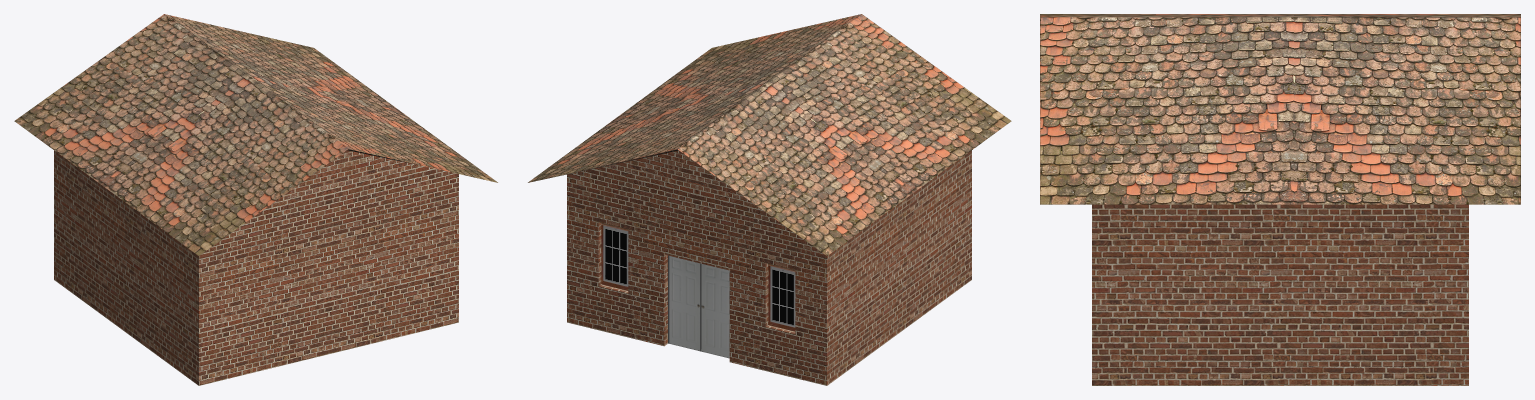
The model's file is Casa_Orrore_PURO.fbx.
The picture shows the model from 3 angles, left to right: view 1: azimuth 30°, elevation 25°; view 2: azimuth 150°, elevation 25°; view 3: azimuth 270°, elevation 25°; orthographic projection. The views are drawn at different scales.
Parts seen in each view (by area): view 1: polySurface3; view 2: polySurface3; view 3: polySurface3.
Boxes of the visible parts, <box> form: polySurface3: <box>14,14,497,385</box>; polySurface3: <box>528,14,1011,385</box>; polySurface3: <box>1040,14,1520,385</box>.
Bounding box in the file's own units: 1.15 × 0.8028 × 1.22.
1 material, 1 textured.
